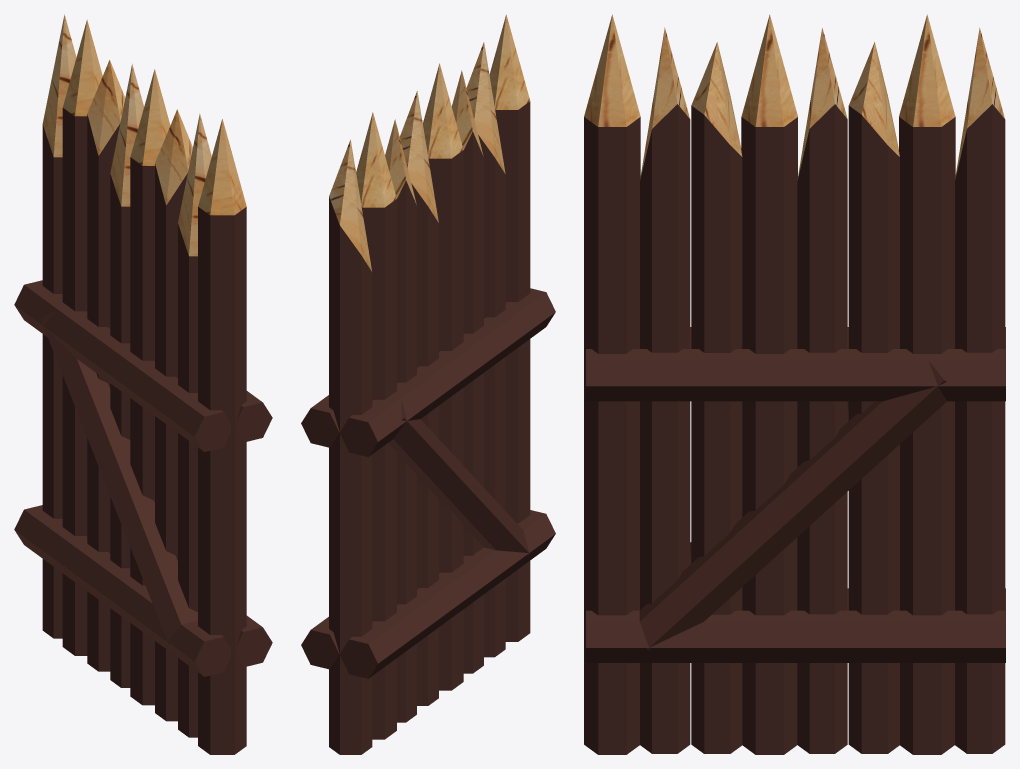
Rendered from Door_04.fbx.
3 renders of one model, left to right at view 1: azimuth 30°, elevation 25°; view 2: azimuth 150°, elevation 25°; view 3: azimuth 270°, elevation 25°, orthographic. The views are drawn at different scales.
Parts seen in each view (by area): view 1: Door_04; view 2: Door_04; view 3: Door_04.
Part boxes in pixels (<box>): Door_04: <box>14,14,272,754</box>; Door_04: <box>301,14,555,754</box>; Door_04: <box>584,14,1005,754</box>.
Bounding box in the file's own units: 76 × 584 × 306.
